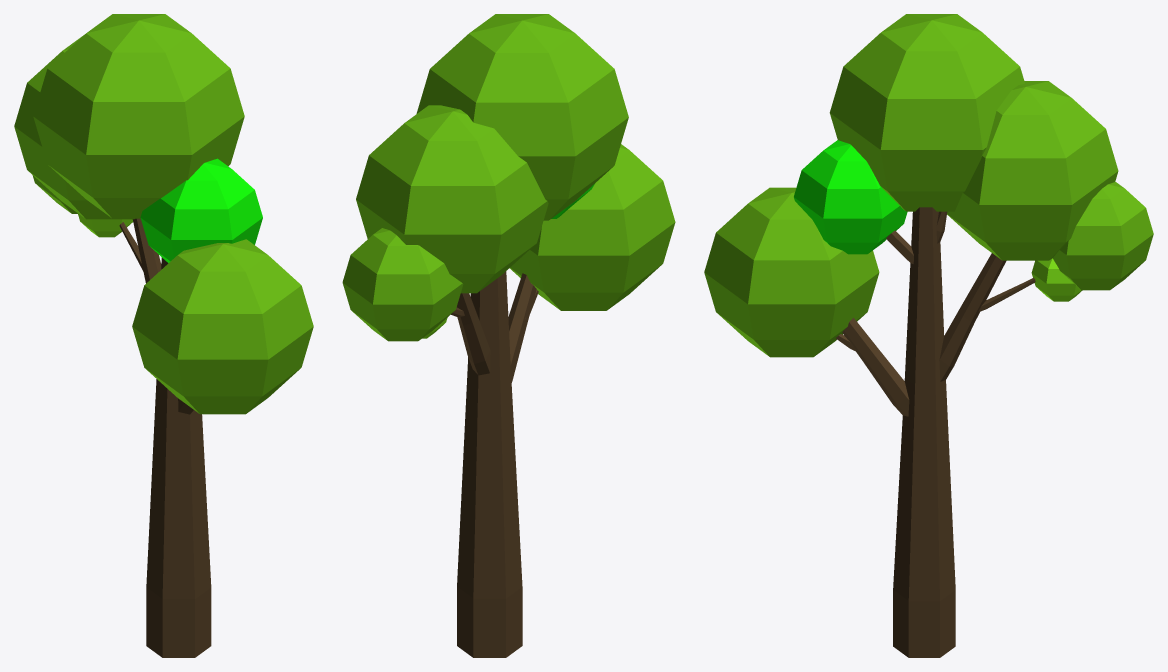
The model's file is tree.fbx.
The picture shows the model from 3 angles, left to right: view 1: azimuth 30°, elevation 25°; view 2: azimuth 150°, elevation 25°; view 3: azimuth 270°, elevation 25°; orthographic projection. The views are drawn at different scales.
Visible parts, largest first — view 1: Sphere.003, Sphere.005, Cylinder, Sphere.004, Sphere.002, Cylinder.002, Sphere; view 2: Sphere.003, Sphere.002, Cylinder, Sphere.005, Sphere.001, Cylinder.002, Cylinder.001; view 3: Sphere.003, Cylinder, Sphere.005, Sphere.002, Sphere.004, Sphere.001, Cylinder.002, Cylinder.001, Sphere.
Boxes of the visible parts, x1,y1,x2,y2 form: Sphere.003: (33, 14, 244, 218); Sphere.005: (132, 239, 313, 414); Cylinder: (146, 257, 211, 657); Sphere.004: (140, 158, 262, 262); Sphere.002: (14, 35, 134, 219); Cylinder.002: (132, 218, 161, 283); Sphere: (78, 213, 133, 237); Sphere.003: (416, 14, 628, 220); Sphere.002: (356, 105, 548, 293); Cylinder: (457, 271, 522, 657); Sphere.005: (509, 144, 675, 310); Sphere.001: (342, 228, 463, 341); Cylinder.002: (457, 293, 490, 375); Cylinder.001: (508, 273, 536, 382); Sphere.003: (829, 14, 1024, 211); Cylinder: (893, 207, 955, 657); Sphere.005: (704, 187, 879, 357); Sphere.002: (947, 81, 1118, 260); Sphere.004: (794, 140, 907, 254); Sphere.001: (1052, 182, 1153, 290); Cylinder.002: (939, 253, 1006, 381); Cylinder.001: (842, 317, 909, 416); Sphere: (1031, 258, 1082, 301).
Size of the model in its own units: 135 by 475 by 318.
